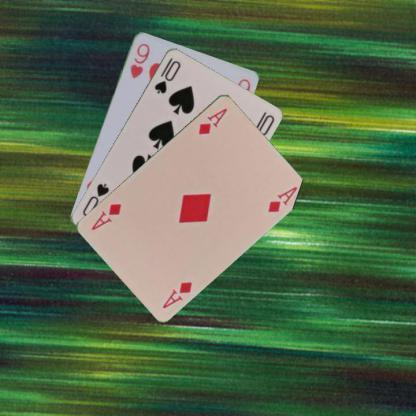10s: (151, 54, 182, 95)
9h: (127, 41, 151, 80)
Ad: (160, 278, 194, 310), (195, 104, 229, 135)
